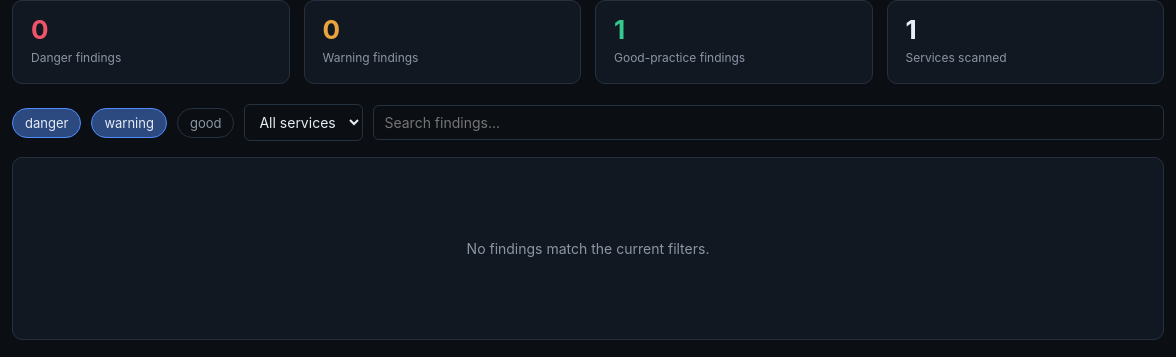
it: FindingsView › toggling on the good filter reveals good-practice findings with flagged items
Check: the text "Everything looks fine here" is not shown
Click the button "good" at {"x": 206, "y": 122}, box [177, 108, 234, 138]
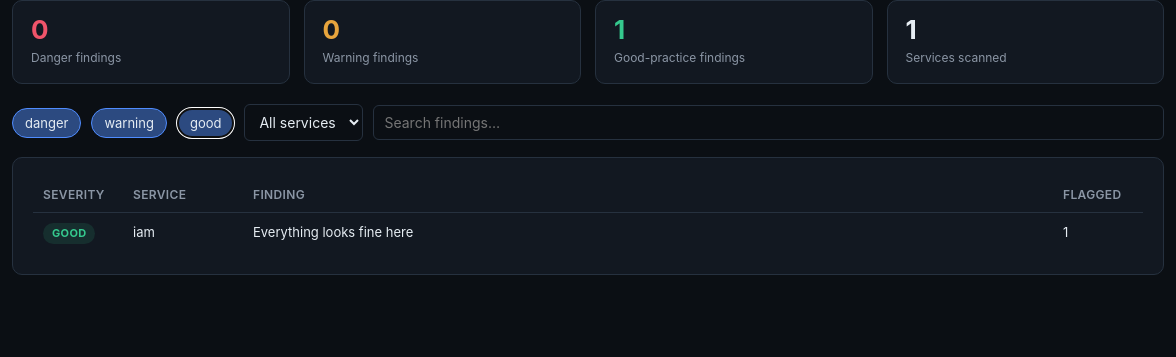
Check: the text "Everything looks fine here" is shown, box [243, 212, 1053, 254]
